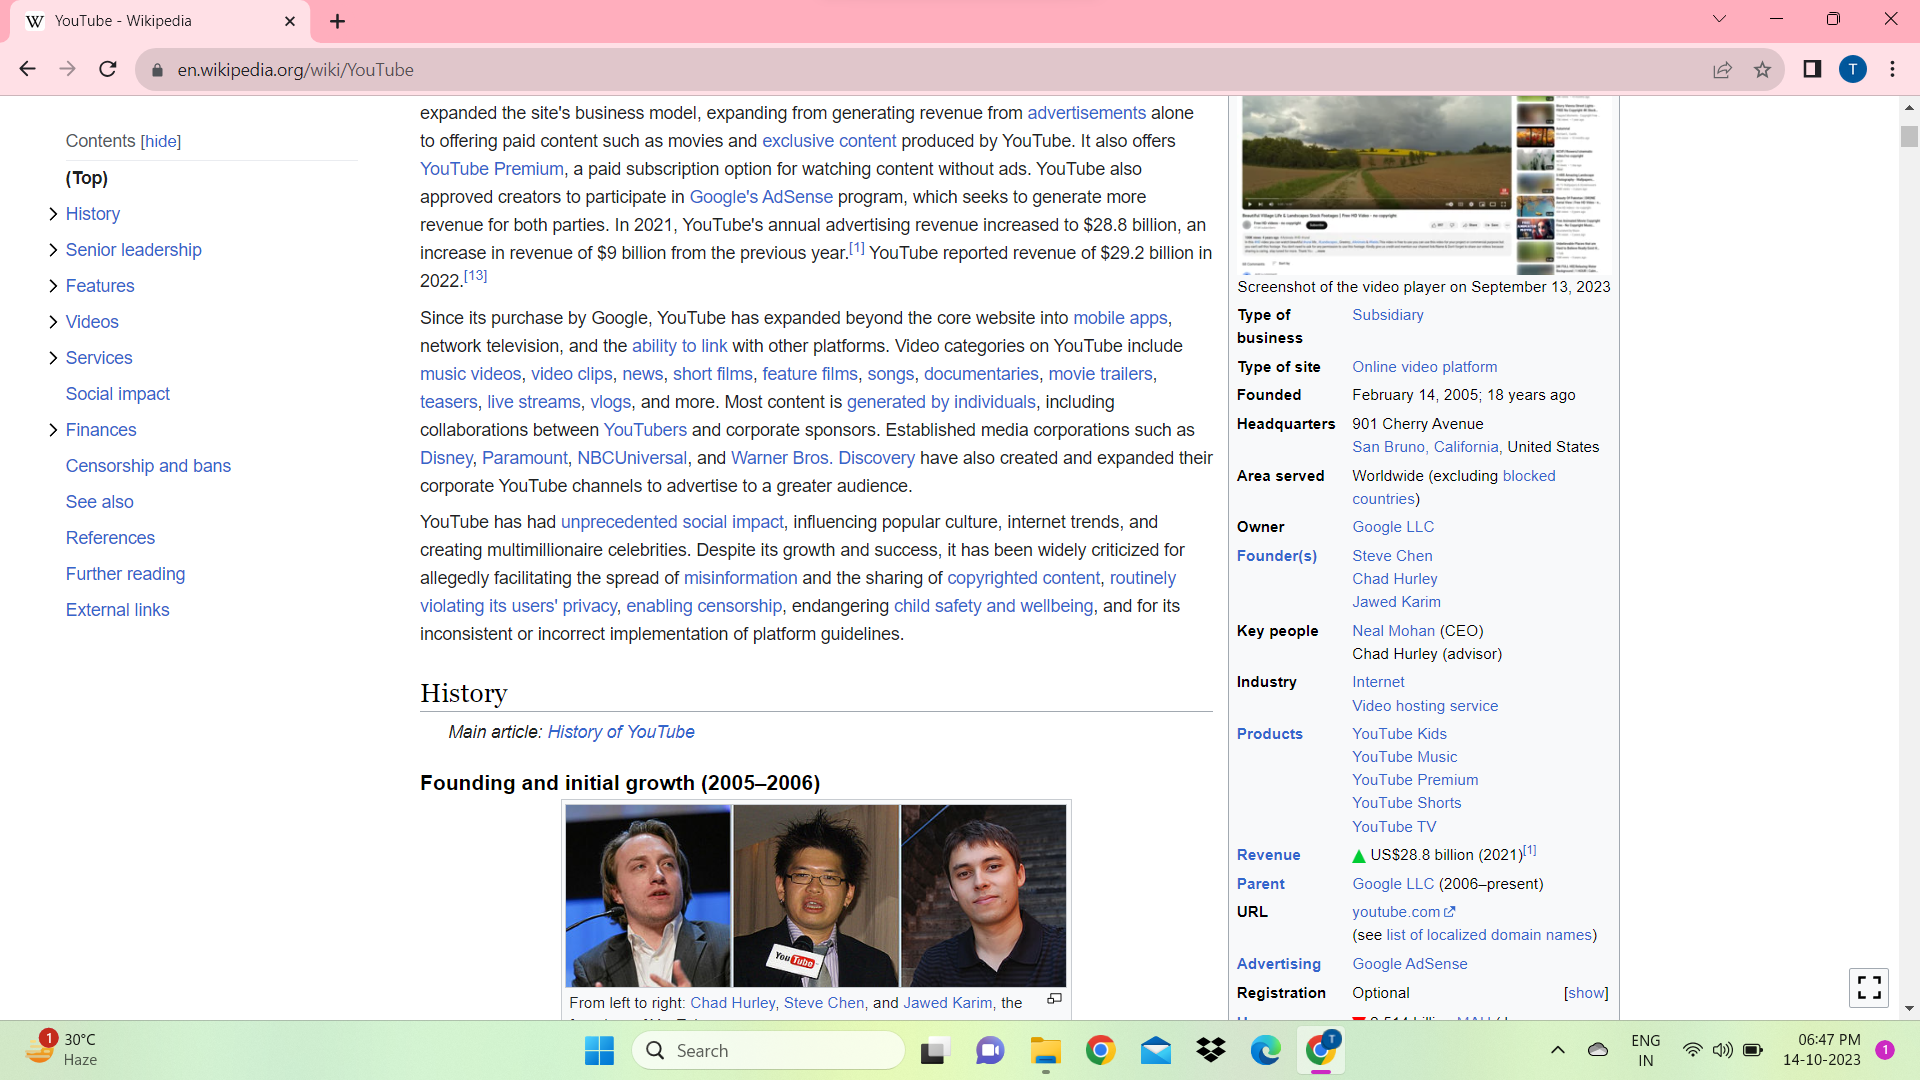Image: (1241, 91, 1514, 218), (560, 800, 729, 988), (732, 800, 898, 990), (903, 800, 1072, 986), (1516, 164, 1556, 281), (1506, 95, 1571, 160)
Paragraph: (404, 104, 1228, 291), (411, 306, 1218, 496), (414, 502, 1212, 661), (1344, 725, 1486, 835), (1340, 903, 1611, 947), (411, 770, 832, 798), (1348, 464, 1592, 505), (1350, 417, 1605, 454), (444, 719, 716, 749), (1344, 617, 1510, 665), (1346, 549, 1461, 611), (1342, 673, 1509, 715), (1234, 347, 1333, 417), (58, 448, 241, 479), (1340, 844, 1571, 868), (1344, 382, 1573, 406), (1346, 874, 1556, 898), (50, 123, 210, 153), (404, 669, 522, 705), (54, 559, 194, 589), (65, 593, 177, 630), (65, 237, 214, 264), (51, 522, 173, 553), (1232, 299, 1300, 352), (1232, 458, 1329, 492), (1344, 953, 1473, 977), (58, 384, 179, 407), (61, 339, 142, 373), (1346, 359, 1509, 376), (1236, 617, 1320, 649), (1346, 299, 1435, 328), (54, 160, 123, 196), (1229, 549, 1333, 572), (1229, 512, 1300, 543), (1232, 414, 1344, 434), (1348, 516, 1448, 537), (1228, 951, 1331, 971), (1232, 984, 1331, 1004), (1232, 719, 1309, 744), (58, 417, 140, 440), (61, 200, 129, 228), (62, 306, 132, 332), (1232, 669, 1305, 691), (57, 276, 153, 293), (1232, 841, 1305, 862), (67, 492, 142, 512), (1342, 986, 1428, 1004), (1232, 872, 1295, 891), (1232, 899, 1288, 919)
